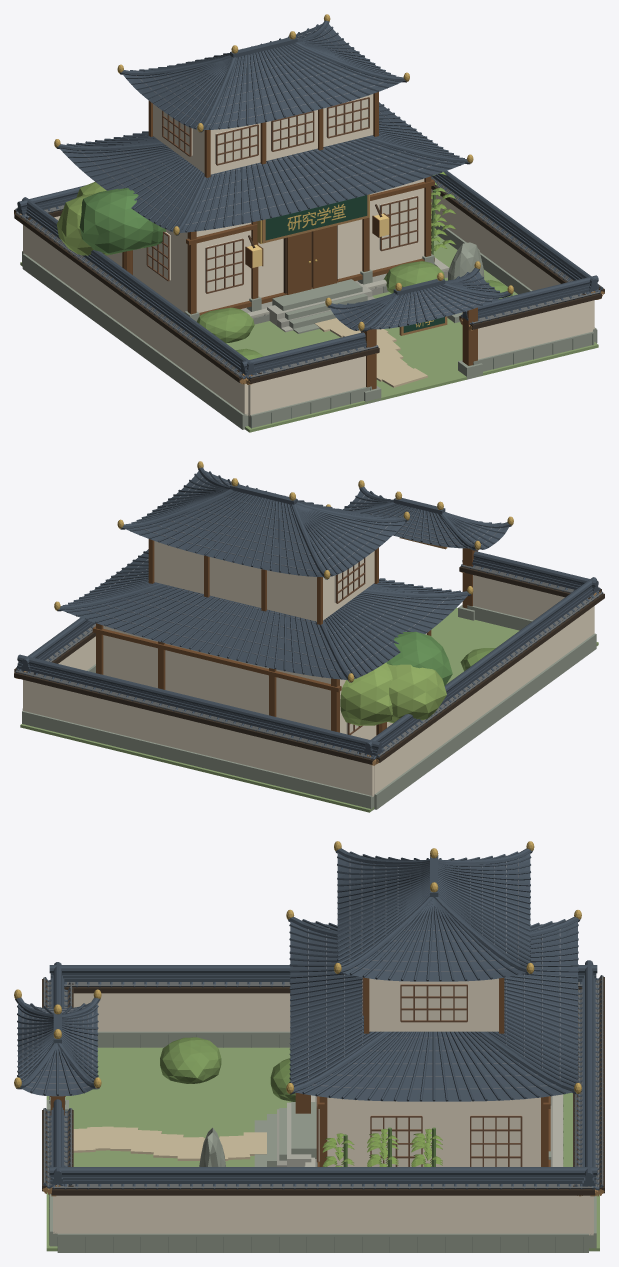
Rendered from scenic_academy-refined-v5.glb.
3 views of the same model, one above another, from view 1: azimuth 30°, elevation 25°; view 2: azimuth 150°, elevation 25°; view 3: azimuth 270°, elevation 25° (orthographic). The views are drawn at different scales.
Visible parts, largest first — view 1: scenic_academy | shrine:box.006, scenic_academy | shrine:cyl:6, scenic_academy | settlement:hip:0:6.65:0:18.5:13, scenic_academy | shrine:box.008, scenic_academy | shrine:box.007, scenic_academy | settlement:hip:0:11.35:0:13:8.7, scenic_academy | shrine:box, scenic_academy | shrine:box.010, scenic_academy | shrine:box.012, scenic_academy | shrine:cyl:10, scenic_academy | shrine:box.011, scenic_academy | shrine:box.016 (+15 smaller); view 2: scenic_academy | shrine:box.006, scenic_academy | shrine:cyl:6, scenic_academy | settlement:hip:0:6.65:0:18.5:13, scenic_academy | shrine:box.008, scenic_academy | settlement:hip:0:11.35:0:13:8.7, scenic_academy | shrine:box.012, scenic_academy | shrine:cyl:10, scenic_academy | settlement:leaf, scenic_academy | shrine:box.007, scenic_academy | shrine:box.016, scenic_academy | shrine:box, scenic_academy | shrine:cyl:8 (+7 smaller); view 3: scenic_academy | shrine:cyl:6, scenic_academy | shrine:box.006, scenic_academy | settlement:hip:0:6.65:0:18.5:13, scenic_academy | shrine:box, scenic_academy | shrine:box.008, scenic_academy | settlement:hip:0:11.35:0:13:8.7, scenic_academy | shrine:cyl:10, scenic_academy | shrine:box.012, scenic_academy | shrine:box.016, scenic_academy | shrine:cyl:6.001, scenic_academy | shrine:box.010, scenic_academy | shrine:cyl:8 (+12 smaller).
Boxes of the visible parts, <box> form: scenic_academy | shrine:box.006: <box>23,94,594,416</box>; scenic_academy | shrine:cyl:6: <box>15,24,602,379</box>; scenic_academy | settlement:hip:0:6.65:0:18.5:13: <box>59,102,466,232</box>; scenic_academy | shrine:box.008: <box>22,217,596,429</box>; scenic_academy | shrine:box.007: <box>148,92,477,389</box>; scenic_academy | settlement:hip:0:11.35:0:13:8.7: <box>122,23,402,129</box>; scenic_academy | shrine:box: <box>20,235,598,432</box>; scenic_academy | shrine:box.010: <box>148,97,416,291</box>; scenic_academy | shrine:box.012: <box>17,37,598,375</box>; scenic_academy | shrine:cyl:10: <box>17,171,598,369</box>; scenic_academy | shrine:box.011: <box>146,97,418,293</box>; scenic_academy | shrine:box.016: <box>14,185,604,383</box>; scenic_academy | shrine:box.006: <box>23,541,594,796</box>; scenic_academy | shrine:cyl:6: <box>15,471,603,759</box>; scenic_academy | settlement:hip:0:6.65:0:18.5:13: <box>61,549,467,679</box>; scenic_academy | shrine:box.008: <box>22,604,596,810</box>; scenic_academy | settlement:hip:0:11.35:0:13:8.7: <box>124,471,404,577</box>; scenic_academy | shrine:box.012: <box>17,484,598,755</box>; scenic_academy | shrine:cyl:10: <box>17,551,598,749</box>; scenic_academy | settlement:leaf: <box>340,662,446,725</box>; scenic_academy | shrine:box.007: <box>92,539,477,732</box>; scenic_academy | shrine:box.016: <box>14,566,604,764</box>; scenic_academy | shrine:box: <box>20,607,598,812</box>; scenic_academy | shrine:cyl:8: <box>57,467,511,682</box>; scenic_academy | shrine:cyl:6: <box>17,851,603,1190</box>; scenic_academy | shrine:box.006: <box>53,978,593,1235</box>; scenic_academy | settlement:hip:0:6.65:0:18.5:13: <box>290,921,577,1101</box>; scenic_academy | shrine:box: <box>46,1047,599,1251</box>; scenic_academy | shrine:box.008: <box>46,1031,596,1252</box>; scenic_academy | settlement:hip:0:11.35:0:13:8.7: <box>337,853,530,981</box>; scenic_academy | shrine:cyl:10: <box>49,960,597,1180</box>; scenic_academy | shrine:box.012: <box>50,855,596,1186</box>; scenic_academy | shrine:box.016: <box>42,977,604,1195</box>; scenic_academy | shrine:cyl:6.001: <box>43,975,603,1188</box>; scenic_academy | shrine:box.010: <box>318,984,521,1166</box>; scenic_academy | shrine:cyl:8: <box>15,848,580,1094</box>.
Size of the model in its own units: 23.52 by 14.42 by 26.7.
